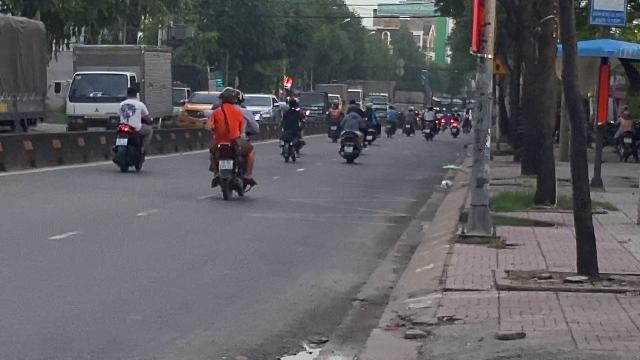helmet: (218, 86, 240, 106)
licenseplate: (219, 159, 233, 169)
motorcyclist: (204, 86, 258, 200)
